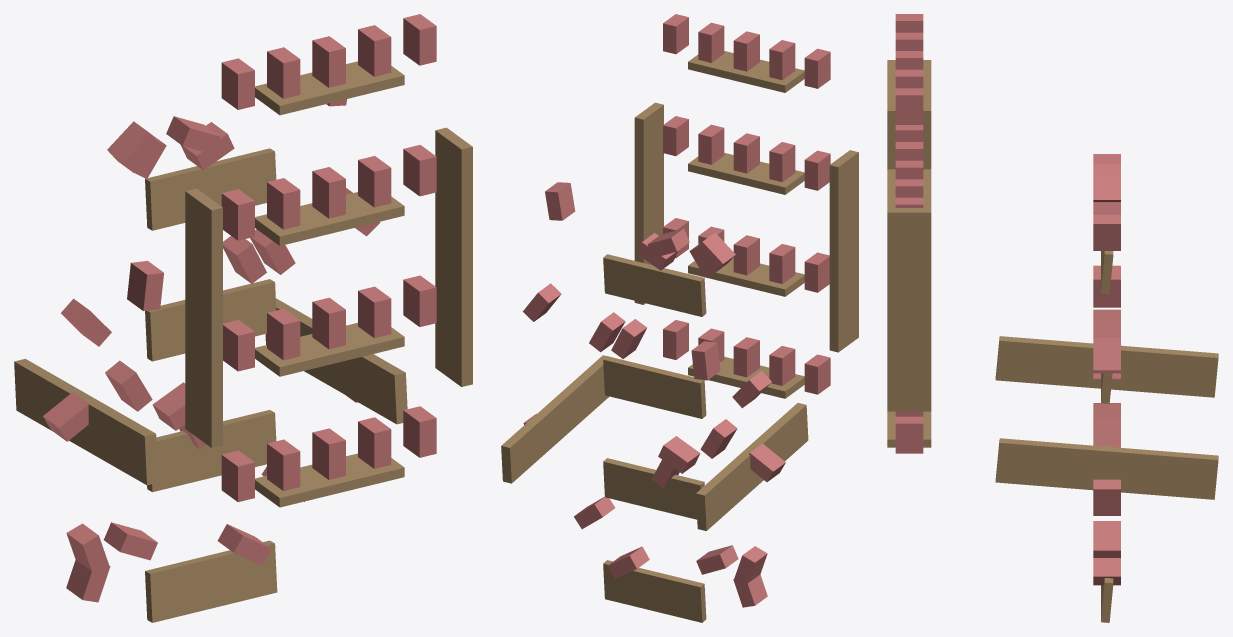
The model's file is Bookshelf_Fall.fbx.
3 views of the same model, side by side, from view 1: azimuth 30°, elevation 25°; view 2: azimuth 150°, elevation 25°; view 3: azimuth 270°, elevation 25° (orthographic). The views are drawn at different scales.
Visible parts, largest first — view 1: Bookshelf_Fall_Pre, Bookshelf_Fall_Post; view 2: Bookshelf_Fall_Post, Bookshelf_Fall_Pre; view 3: Bookshelf_Fall_Post, Bookshelf_Fall_Pre.
Boxes of the visible parts, left/top/right/bottom form: Bookshelf_Fall_Pre: left=185, top=14, right=472, bottom=507; Bookshelf_Fall_Post: left=14, top=99, right=407, bottom=622; Bookshelf_Fall_Post: left=501, top=182, right=808, bottom=622; Bookshelf_Fall_Pre: left=634, top=14, right=858, bottom=398; Bookshelf_Fall_Post: left=995, top=154, right=1218, bottom=622; Bookshelf_Fall_Pre: left=887, top=14, right=931, bottom=453.
Size of the model in its own units: 141 by 273 by 151.
